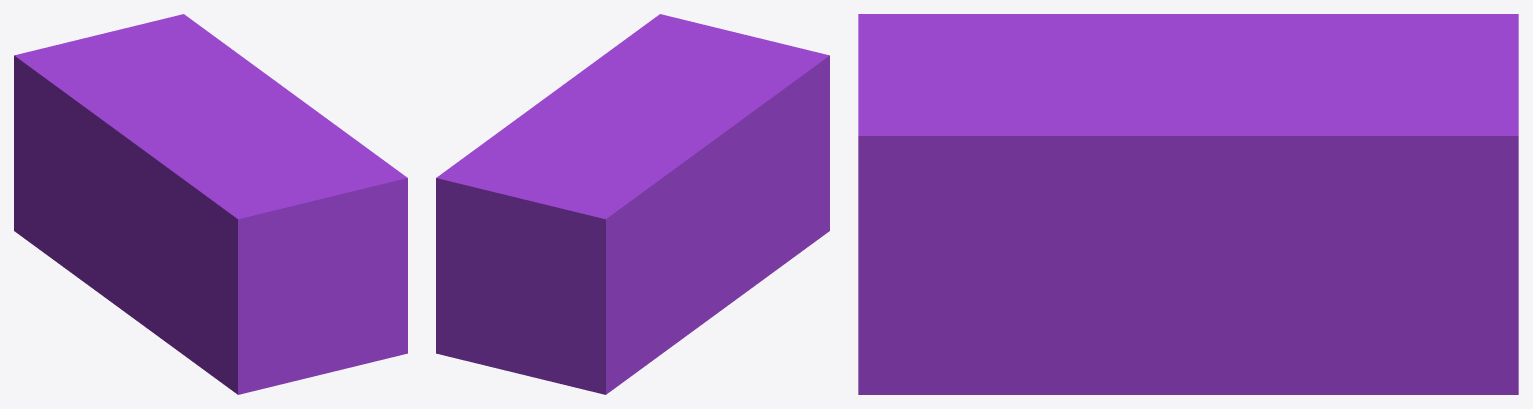
Rendered from ExhibitGlass_1.008_chunks.fbx.
3 views of the same model, side by side, from view 1: azimuth 30°, elevation 25°; view 2: azimuth 150°, elevation 25°; view 3: azimuth 270°, elevation 25° (orthographic). The views are drawn at different scales.
Parts seen in each view (by area): view 1: ExhibitGlass_1.008_0, ExhibitGlass_1.008_3, ExhibitGlass_1.008_2, ExhibitGlass_1.008_1; view 2: ExhibitGlass_1.008_3, ExhibitGlass_1.008_0, ExhibitGlass_1.008_1, ExhibitGlass_1.008_2; view 3: ExhibitGlass_1.008_2, ExhibitGlass_1.008_3, ExhibitGlass_1.008_1, ExhibitGlass_1.008_0.
Part boxes in pixels (left/top/right/bottom): ExhibitGlass_1.008_0: left=95, top=136, right=334, bottom=394; ExhibitGlass_1.008_3: left=14, top=14, right=293, bottom=200; ExhibitGlass_1.008_2: left=249, top=95, right=407, bottom=372; ExhibitGlass_1.008_1: left=14, top=145, right=130, bottom=316; ExhibitGlass_1.008_3: left=436, top=91, right=716, bottom=309; ExhibitGlass_1.008_0: left=661, top=32, right=829, bottom=308; ExhibitGlass_1.008_1: left=436, top=247, right=722, bottom=394; ExhibitGlass_1.008_2: left=547, top=14, right=732, bottom=97; ExhibitGlass_1.008_2: left=858, top=78, right=1301, bottom=394; ExhibitGlass_1.008_3: left=1092, top=14, right=1518, bottom=275; ExhibitGlass_1.008_1: left=1200, top=271, right=1518, bottom=394; ExhibitGlass_1.008_0: left=858, top=14, right=1190, bottom=83.
Bounding box in the file's own units: 270 × 267 × 618.
